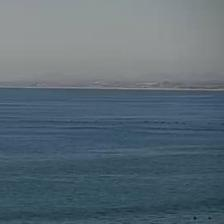surfer: (192, 216, 196, 220), (207, 217, 212, 220)
